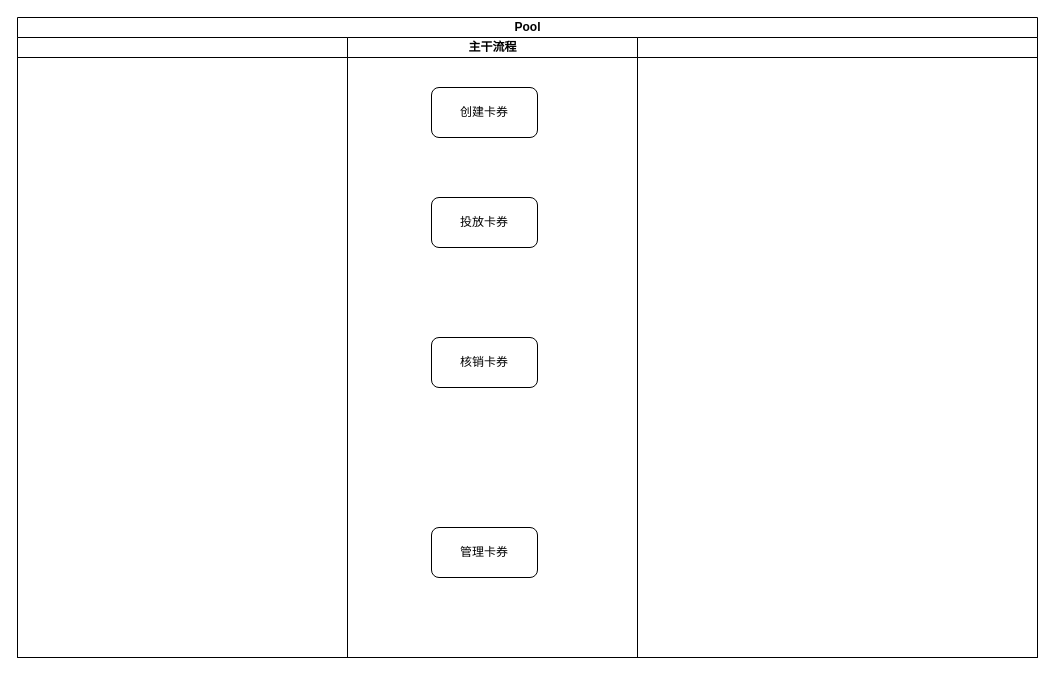
Some shapes in this 1055 by 675 pixel diagram are drawn without their labels. Each missing label, with the centre of its shape:
分解步骤: (x=837, y=347)
支线流程: (x=182, y=347)
